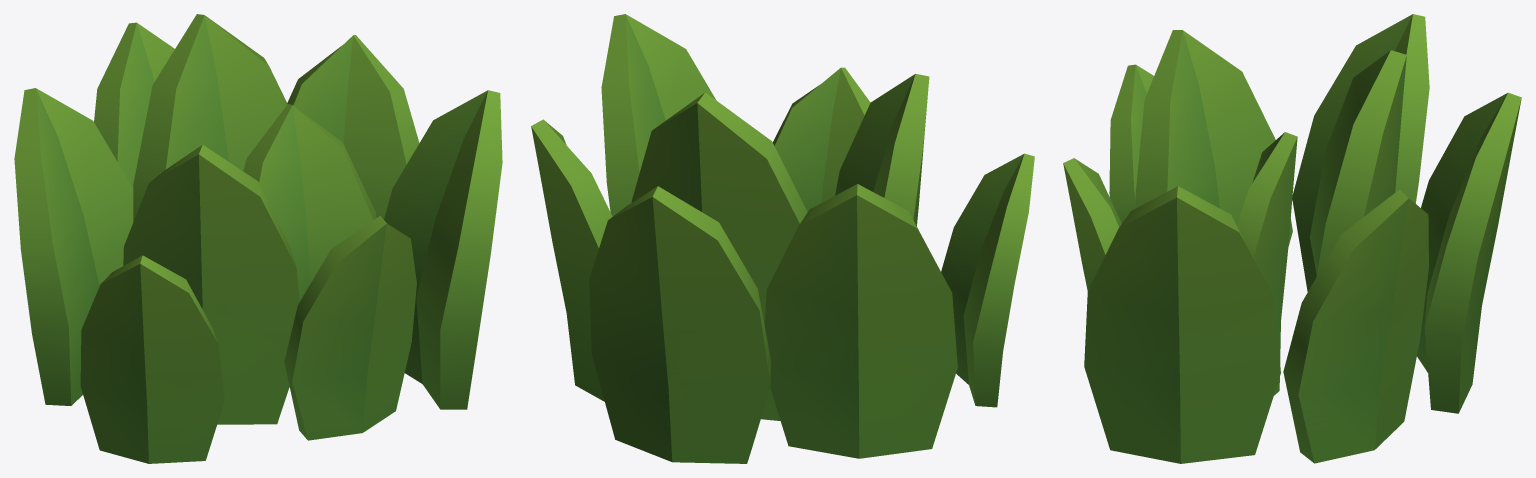
File: plant-grass.glb
3 renders of one model, left to right at view 1: azimuth 30°, elevation 25°; view 2: azimuth 150°, elevation 25°; view 3: azimuth 270°, elevation 25°, orthographic. The views are drawn at different scales.
Visible parts, largest first — view 1: plant.grass; view 2: plant.grass; view 3: plant.grass.
Part boxes in pixels (<box>): plant.grass: <box>14,14,502,463</box>; plant.grass: <box>531,14,1034,463</box>; plant.grass: <box>1063,14,1521,463</box>.
Bounding box in the file's own units: 0.7518 × 0.5835 × 0.7171.
